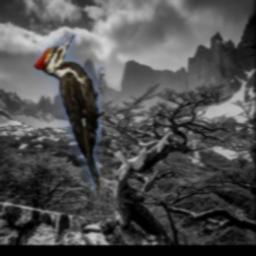Woodpecker: (33, 34, 104, 203)
